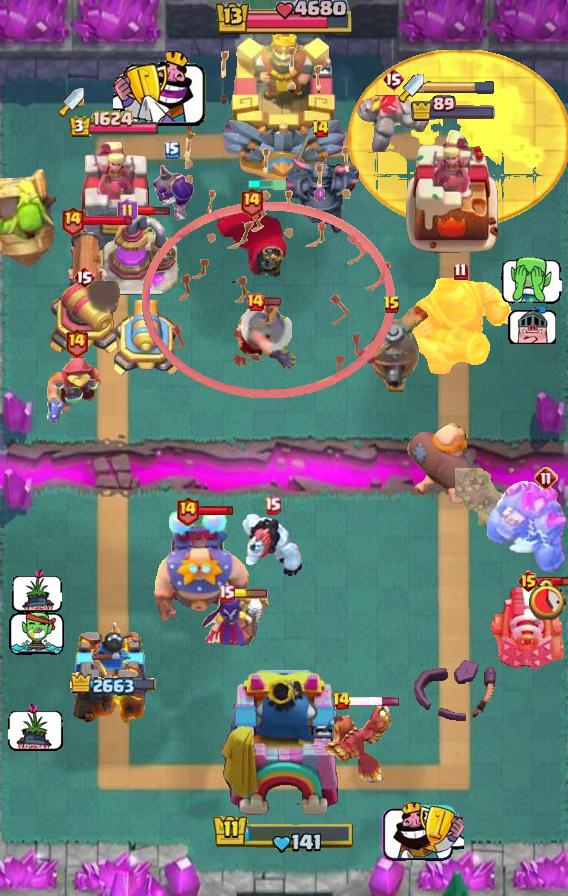axe: (200, 591, 270, 651)
balloon: (405, 422, 485, 510)
bar: (403, 124, 503, 256), (73, 140, 155, 256)
battle-healer: (64, 220, 108, 304)
cannoneer-tower: (484, 480, 568, 572)
clock: (212, 813, 356, 855), (213, 0, 355, 38)
dark-prince: (348, 304, 436, 392)
electro-spirit: (314, 187, 326, 202)
elixir: (526, 578, 567, 620)
emote: (83, 214, 134, 227), (348, 696, 401, 707), (137, 205, 172, 217), (198, 504, 235, 515), (537, 576, 567, 589), (232, 589, 268, 599), (262, 297, 281, 308)
fireball: (45, 357, 107, 427)
fisherman: (455, 469, 525, 532)
giant-skeleton: (404, 275, 516, 377)
goblin-ball: (150, 157, 194, 223)
golden-knight: (316, 702, 392, 784)
golem: (488, 583, 568, 675)
golemite: (281, 131, 359, 235)
ice-spirit: (247, 180, 287, 190)
inferno-tower: (214, 201, 320, 289)
king-tower: (220, 21, 348, 181), (219, 670, 349, 826)
king-tower-bar: (424, 80, 496, 94)
little-prince: (149, 508, 255, 630)
monk: (232, 305, 298, 371)
pekka: (102, 215, 180, 297)
phoenix-egg: (346, 50, 568, 228)
queen-tower: (72, 619, 156, 731)
rage: (240, 513, 304, 579)
royal-recruit: (110, 300, 186, 380), (45, 281, 123, 357)
selected: (68, 110, 160, 139), (411, 95, 498, 122), (70, 672, 158, 698)
skeleton: (113, 50, 207, 126), (380, 800, 464, 864), (502, 255, 563, 305), (8, 702, 64, 752), (8, 611, 64, 656), (10, 567, 61, 612), (508, 307, 557, 344)
skeleton-barrel: (142, 45, 398, 399)
text: (60, 205, 85, 236), (64, 326, 89, 357), (176, 494, 201, 525), (240, 186, 264, 217), (534, 466, 558, 490), (516, 569, 539, 593), (117, 198, 138, 224), (382, 67, 404, 91), (73, 265, 95, 289), (245, 292, 265, 312), (310, 119, 329, 139), (333, 691, 352, 711), (383, 295, 401, 315), (217, 584, 234, 603), (263, 497, 280, 515), (164, 141, 180, 159), (453, 262, 467, 281)
valkyrie-evolution: (355, 90, 431, 152)
x-bow: (0, 167, 58, 269)
